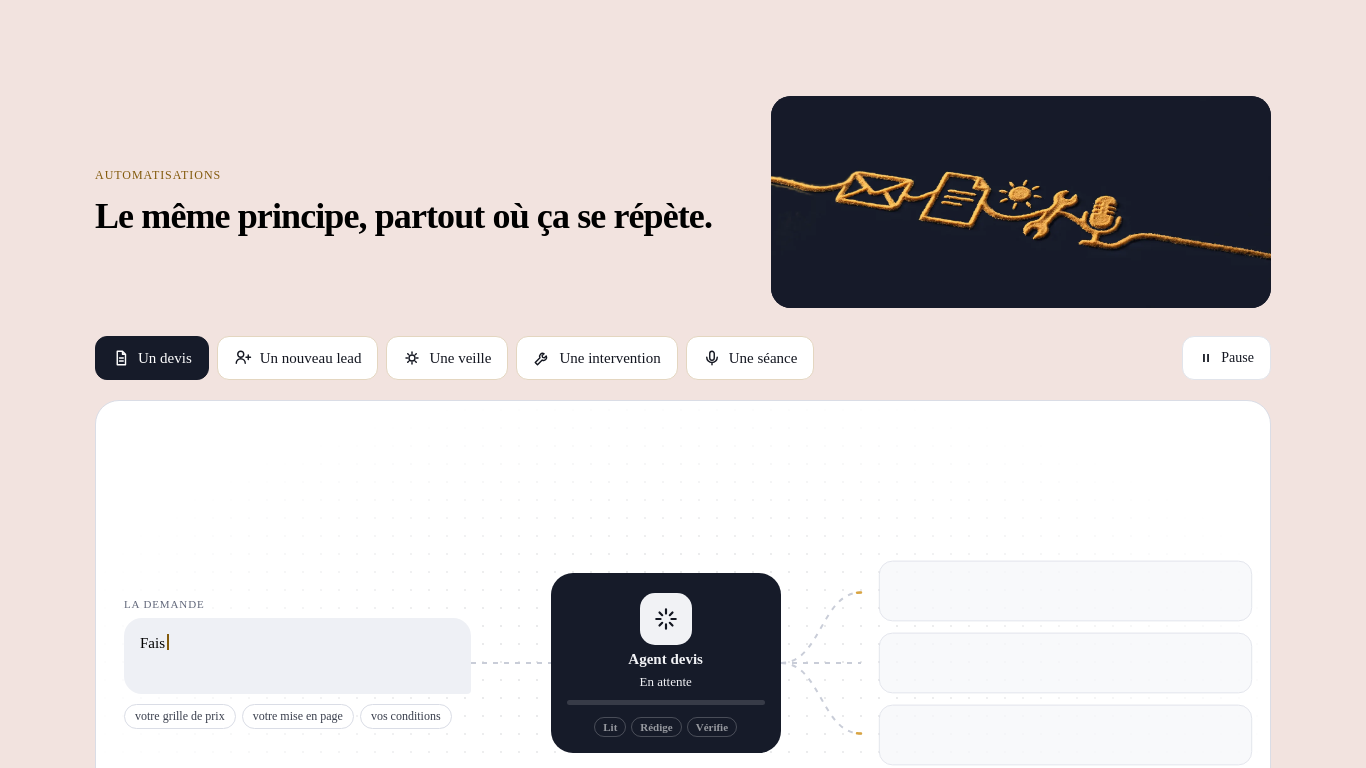
Test case: loop › a chip starts that job from the top
This screenshot has width=1366, height=768.
Click the button "Une veille": (447, 358) [386,336,508,380]
Wait 3000 ms
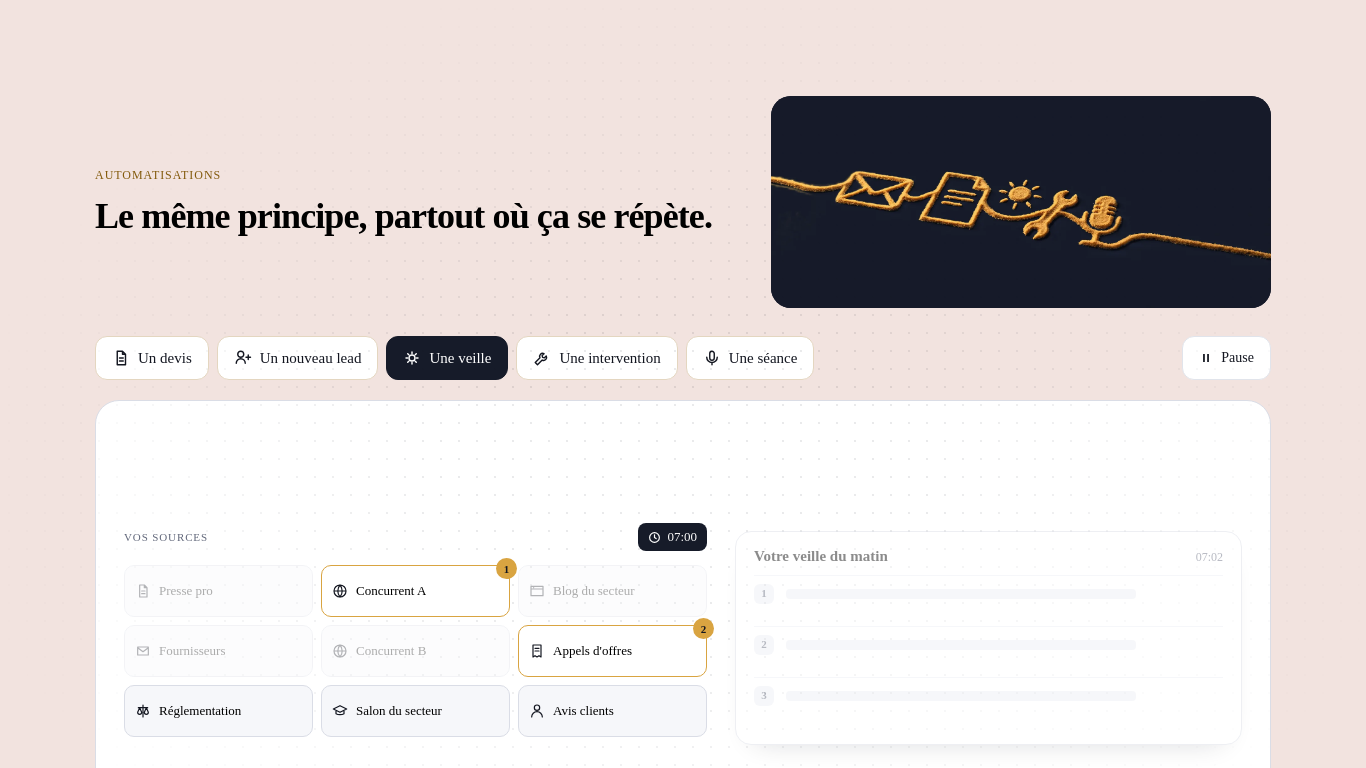
Expected: the element that starts with "Vos sources" is shown, [124,523,1242,737]
